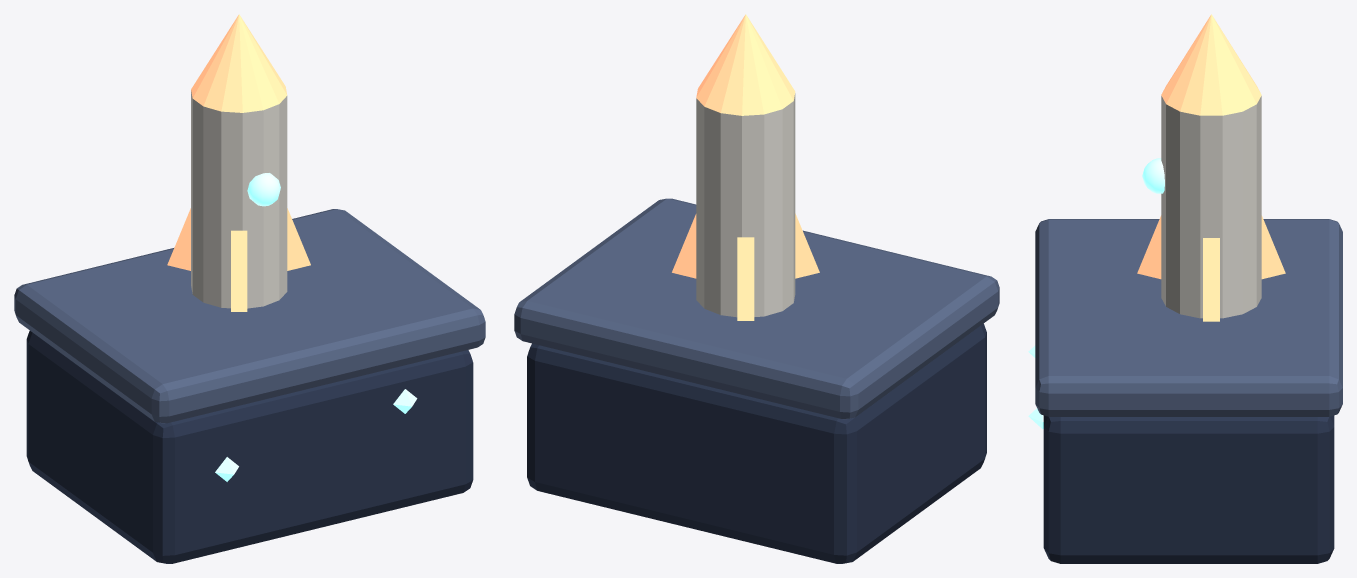
The model's file is deep_space.glb.
The picture shows the model from 3 angles, left to right: view 1: azimuth 30°, elevation 25°; view 2: azimuth 150°, elevation 25°; view 3: azimuth 270°, elevation 25°; orthographic projection. The views are drawn at different scales.
Parts seen in each view (by area): view 1: deep_space_navy, deep_space_steel, deep_space_white, deep_space_orange, deep_space_ems; view 2: deep_space_navy, deep_space_steel, deep_space_white, deep_space_orange; view 3: deep_space_steel, deep_space_navy, deep_space_white, deep_space_orange, deep_space_ems.
Part boxes in pixels (box(x1,y1,x2,y2)): deep_space_navy: box(26, 330, 473, 563); deep_space_steel: box(14, 209, 485, 423); deep_space_white: box(191, 90, 287, 308); deep_space_orange: box(167, 14, 310, 311); deep_space_ems: box(215, 173, 417, 481); deep_space_navy: box(527, 323, 986, 563); deep_space_steel: box(514, 198, 999, 419); deep_space_white: box(696, 93, 795, 317); deep_space_orange: box(672, 14, 819, 320); deep_space_steel: box(1035, 219, 1342, 416); deep_space_navy: box(1043, 415, 1334, 563); deep_space_white: box(1161, 96, 1261, 318); deep_space_orange: box(1137, 14, 1285, 321); deep_space_ems: box(1028, 158, 1164, 429).
Size of the model in its own units: 0.355 by 0.47 by 0.2815.
